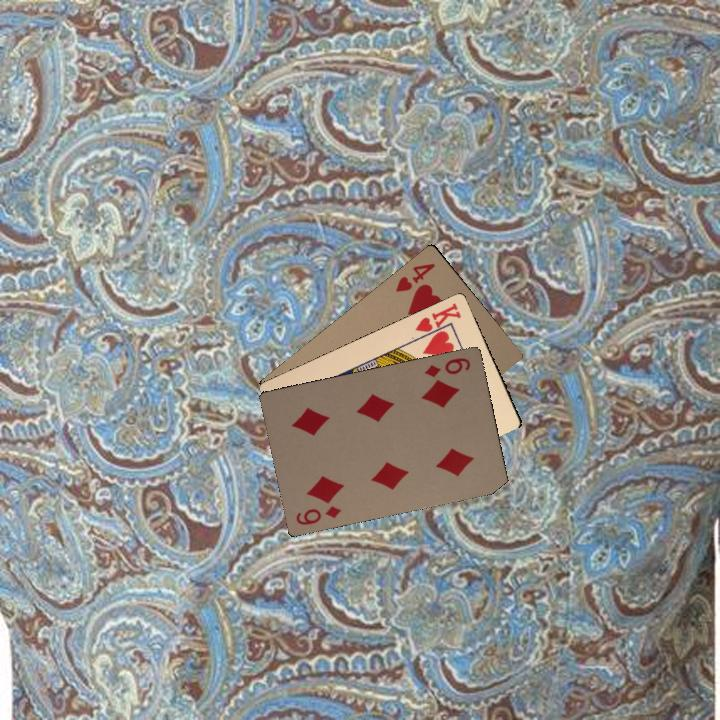4h: (391, 259, 438, 295)
6d: (420, 354, 473, 380), (292, 502, 344, 528)
Kh: (411, 299, 464, 342)
